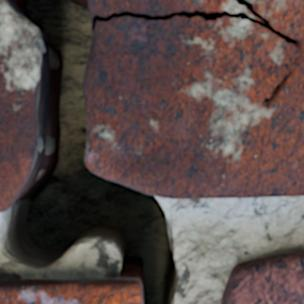brick: (222, 252, 303, 303), (0, 278, 141, 303)
broken_brick: (84, 17, 303, 199), (0, 0, 39, 213), (89, 0, 250, 15), (249, 0, 303, 39)
crack: (0, 0, 303, 303)
